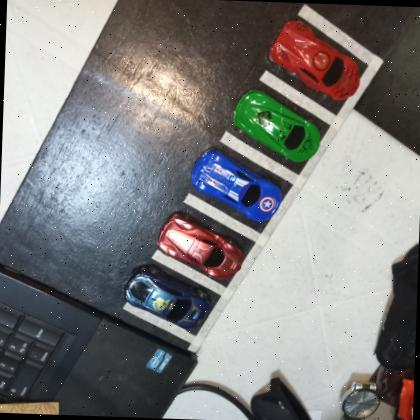Car: (267, 16, 363, 102), (189, 148, 285, 224), (230, 87, 323, 165), (154, 210, 246, 281), (122, 264, 215, 331)
